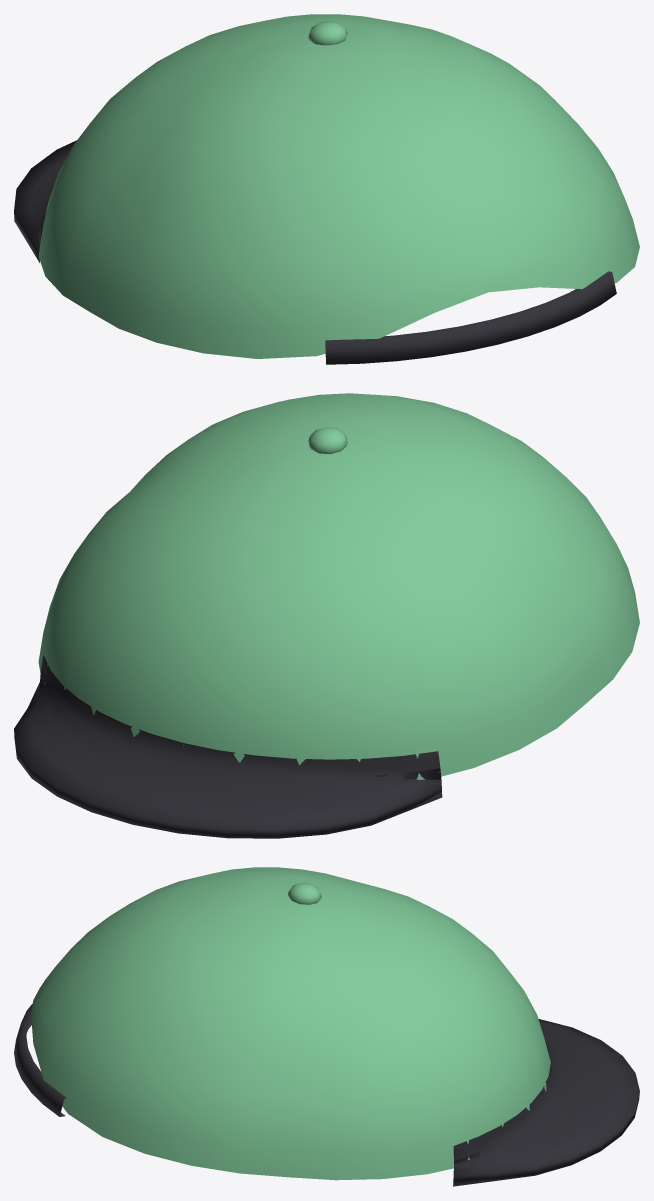
File: gorro_beisbol_atras.glb
3 renders of one model, top to bottom at view 1: azimuth 30°, elevation 25°; view 2: azimuth 150°, elevation 25°; view 3: azimuth 270°, elevation 25°, orthographic. The views are drawn at different scales.
Visible parts, largest first — view 1: pieza; view 2: pieza; view 3: pieza.
Part boxes in pixels (x1,y1,x2,y2): pieza: (14,14,639,364); pieza: (14,393,639,838); pieza: (14,867,639,1186).
Bounding box in the file's own units: 1.07 × 0.5283 × 1.38.
